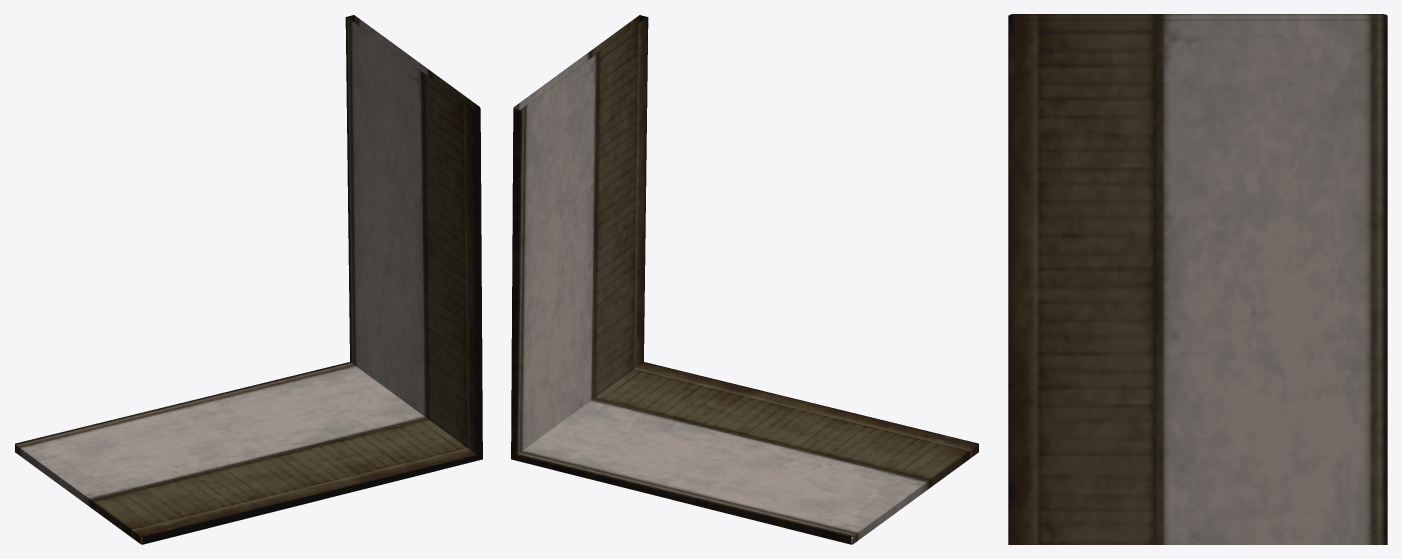
Rendered from SM_EC_House_Wall_9x3_Bend_5.fbx.
The picture shows the model from 3 angles, left to right: view 1: azimuth 30°, elevation 25°; view 2: azimuth 150°, elevation 25°; view 3: azimuth 270°, elevation 25°; orthographic projection. The views are drawn at different scales.
Parts seen in each view (by area): view 1: SM_EC_House_Wall_9x3_Bend_5; view 2: SM_EC_House_Wall_9x3_Bend_5; view 3: SM_EC_House_Wall_9x3_Bend_5.
Boxes of the visible parts, bbox=[...] form: SM_EC_House_Wall_9x3_Bend_5: bbox=[15, 15, 482, 544]; SM_EC_House_Wall_9x3_Bend_5: bbox=[511, 15, 978, 544]; SM_EC_House_Wall_9x3_Bend_5: bbox=[1008, 14, 1387, 544].
Size of the model in its own units: 4.63 by 3 by 4.6.
